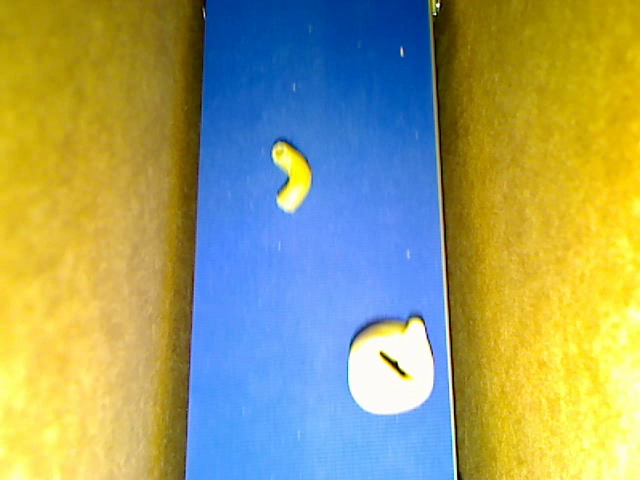elbow: (271, 140, 312, 214)
tortellini: (348, 316, 434, 415)
